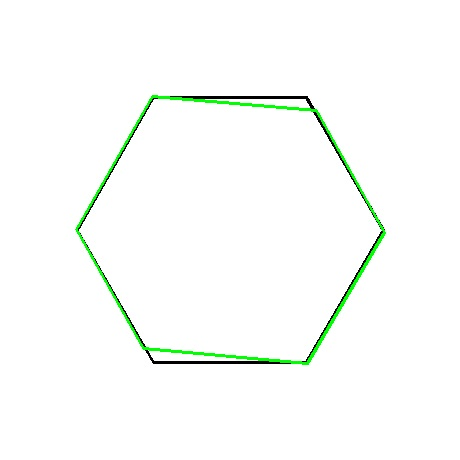line_segment: (76, 95, 385, 365)
